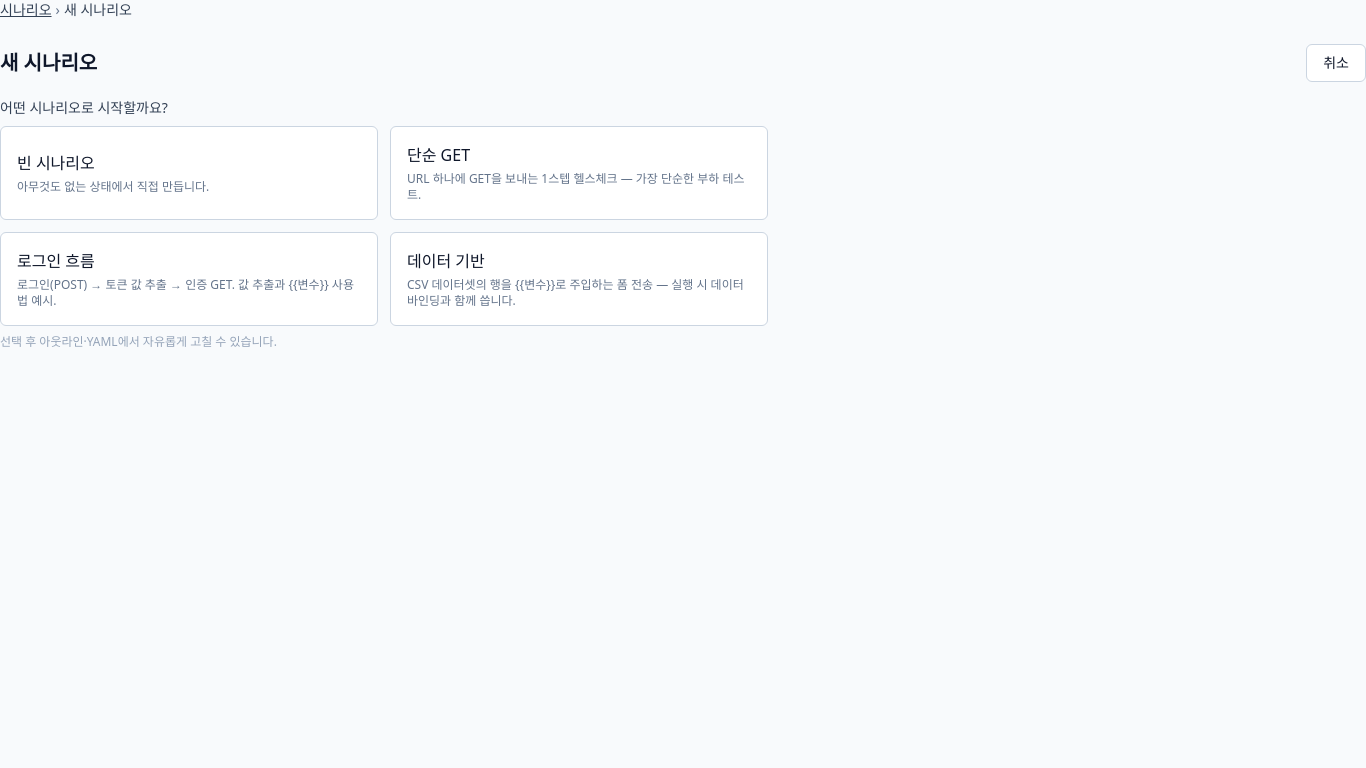
Test: ScenarioNewPage test-run › test-runs the unsaved draft buffer (env + max_requests) and renders the trace
U3: 갤러리 단계를 지나야 에디터가 mount된다 — 빈 시나리오 선택
Click the button "빈 시나리오 아무것도 없는 상태에서 직접 만듭니다." at x=56, y=163, box [0, 126, 378, 220]
(page scrolled)
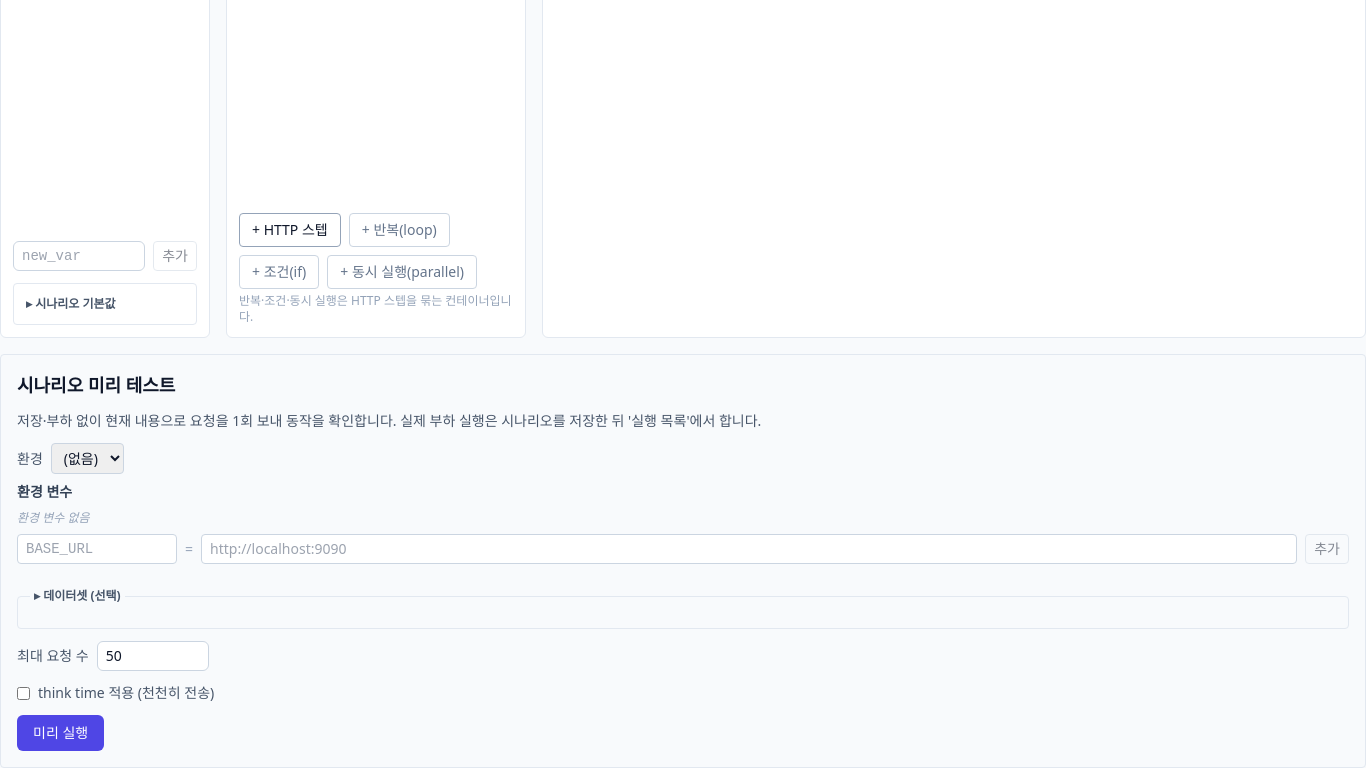
Click the button "미리 실행" at x=61, y=733, box [17, 715, 104, 751]
(page scrolled)
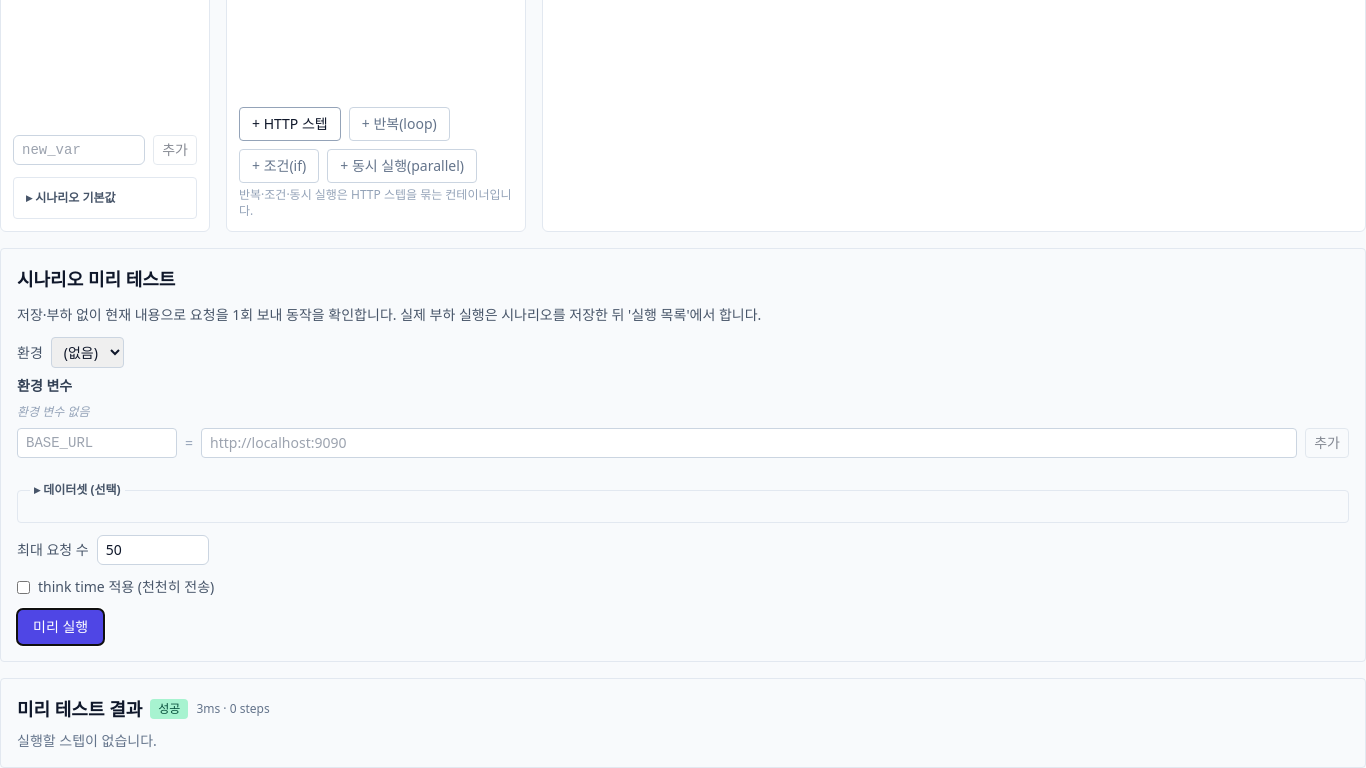
Result: the number of buttons "미리 실행" is 1 at [17, 609, 104, 645]
Result: the element named "미리 실행 결과" is shown at [0, 678, 1365, 767]
